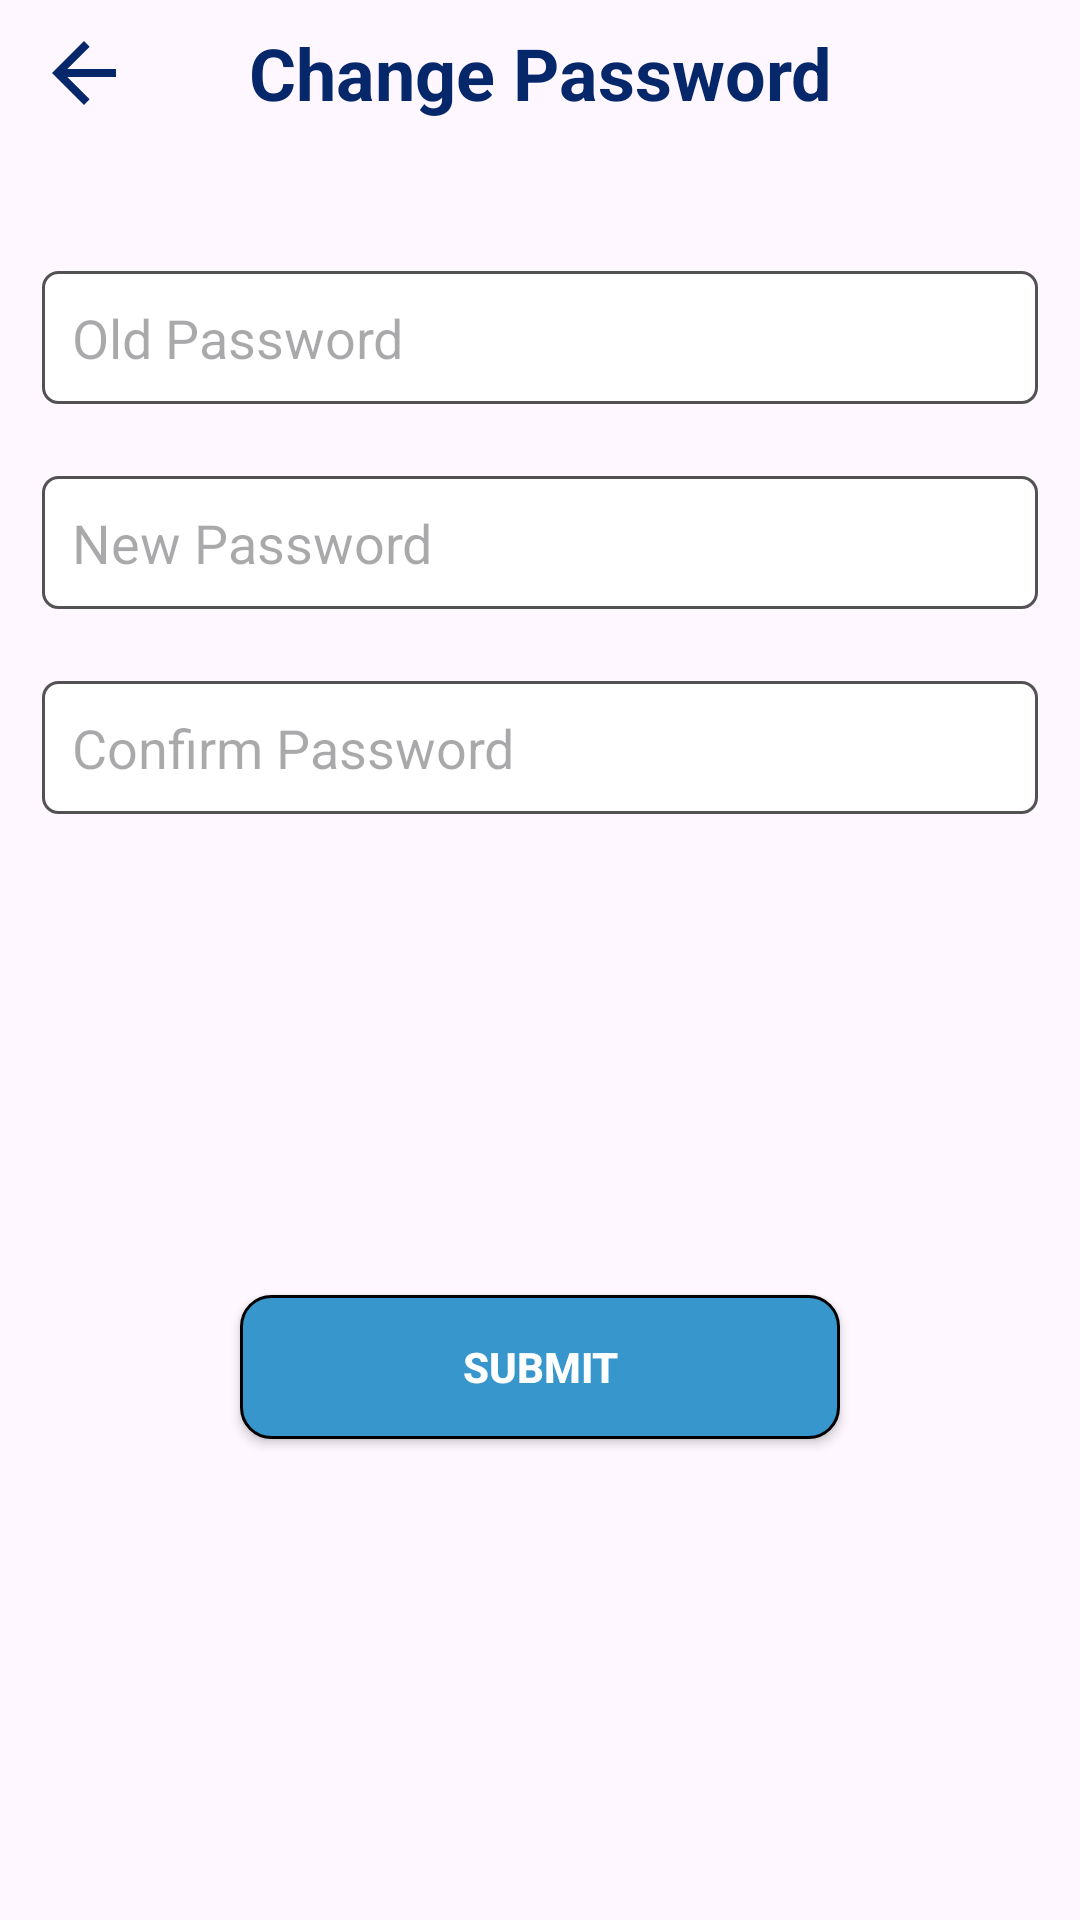

Icon click points for this 1080w x 1920h phone screenshot, format point (x, y):
arrow back: point (84, 73)
